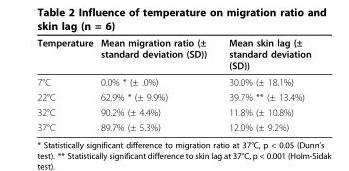table: (36, 36, 310, 132)
table column: (96, 36, 217, 132), (217, 36, 310, 132), (36, 36, 96, 132)
table column header: (36, 36, 310, 73)
table row: (36, 36, 310, 73), (36, 73, 310, 89), (36, 89, 310, 104), (36, 104, 310, 119), (36, 119, 310, 132)
